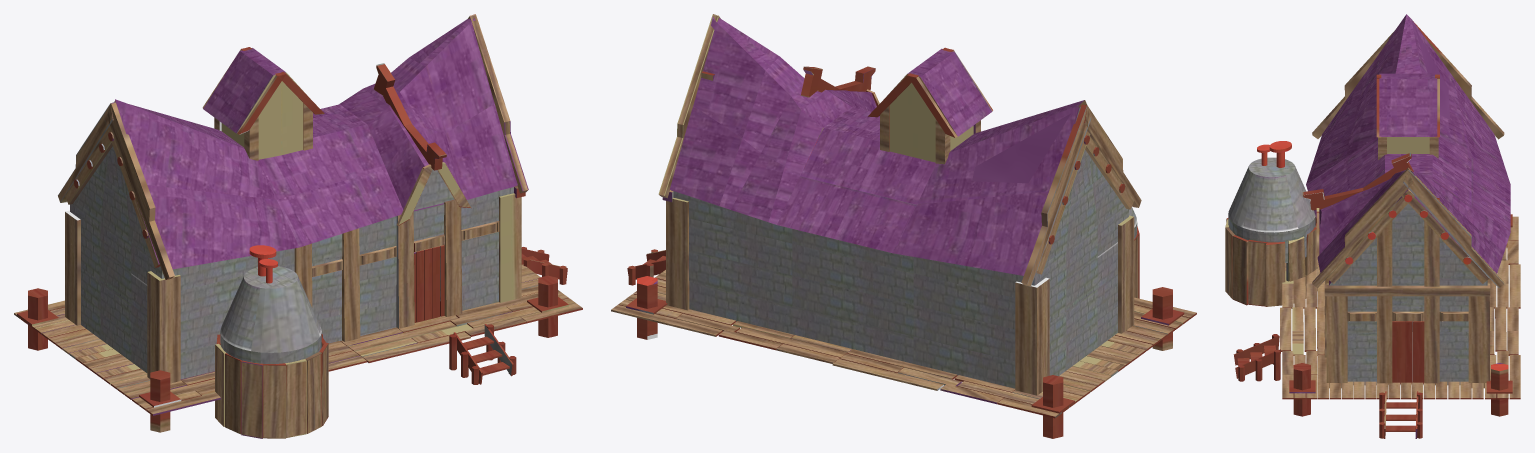
File: CasaRecu14.fbx
3 renders of one model, left to right at view 1: azimuth 30°, elevation 25°; view 2: azimuth 150°, elevation 25°; view 3: azimuth 270°, elevation 25°, orthographic. The views are drawn at different scales.
Visible parts, largest first — view 1: Casa; view 2: Casa; view 3: Casa.
Boxes of the visible parts, x1=… form: Casa: x1=14, y1=14, x2=582, y2=438; Casa: x1=611, y1=14, x2=1196, y2=438; Casa: x1=1225, y1=14, x2=1520, y2=438.
Bounding box in the file's own units: 1195 × 674 × 745.
